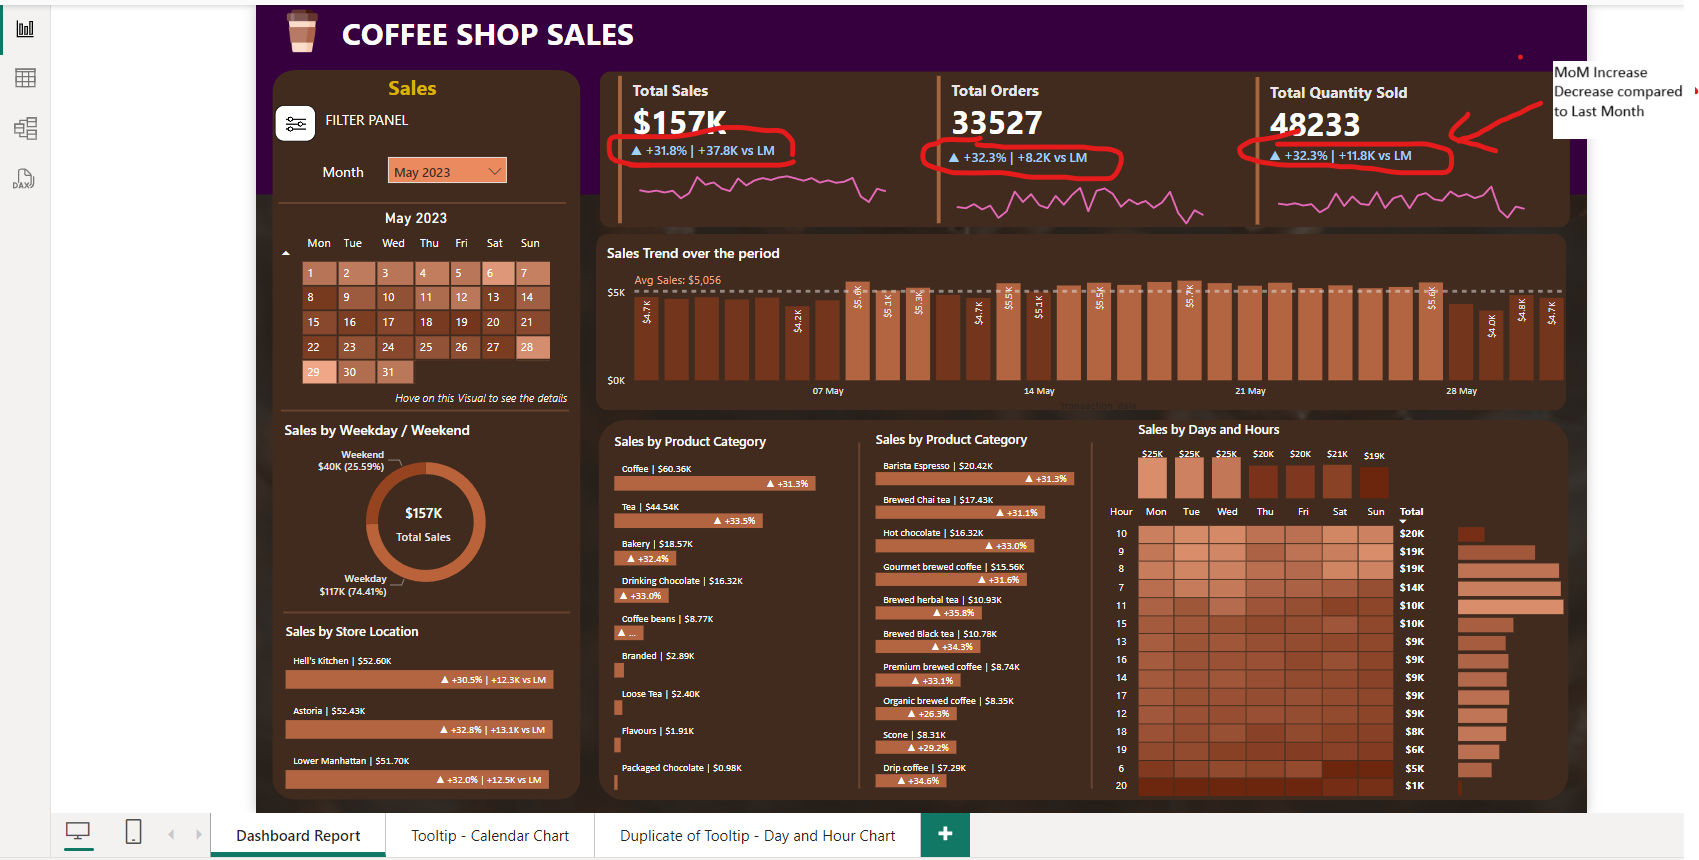

The dashboard page shown, as its layout file describes it:
{"tool":"powerbi","page":{"name":"Dashboard Report","canvas":[1400,850],"ordinal":0},"visuals":[{"type":"shape","box":[0,0,1400.1,199.4],"z":0},{"type":"shape","box":[360,435.7,1020,400],"z":1000},{"type":"shape","box":[17.4,67.7,324.3,767.1],"z":2000},{"type":"shape","box":[361.1,69.1,1020,164.3],"z":3000},{"type":"textbox","box":[85.7,2.9,327.1,68.6],"z":4000},{"type":"cardVisual","fields":{"Data":["Transactions.Total Sales"]},"box":[375.7,70,300.5,165.2],"z":4000,"group":"g1"},{"type":"cardVisual","fields":{"Data":["Transactions.Total Orders"]},"box":[711.1,70,300.5,165.2],"z":4000,"group":"g2"},{"type":"cardVisual","fields":{"Data":["Transactions.Total Quantity"]},"box":[1046.6,71.5,300.5,165.2],"z":4000,"group":"g3"},{"type":"slicer","fields":{"Values":["Date Table.Month Year"]},"box":[134.3,155.7,134.3,48.6],"z":5000},{"type":"lineChart","fields":{"Y":["Transactions.Total Sales"],"Category":["Date Table.Date.Variation.Date Hierarchy.Year","Date Table.Date.Variation.Date Hierarchy.Quarter","Date Table.Date.Variation.Date Hierarchy.Month","Date Table.Date.Variation.Date Hierarchy.Day"]},"box":[388.5,144.1,287.7,85.5],"z":5001,"group":"g1"},{"type":"lineChart","fields":{"Y":["Transactions.Total Quantity Sold"],"Category":["Date Table.Date.Variation.Date Hierarchy.Year","Date Table.Date.Variation.Date Hierarchy.Quarter","Date Table.Date.Variation.Date Hierarchy.Month","Date Table.Date.Variation.Date Hierarchy.Day"]},"box":[1060.7,149,287.7,85.5],"z":5001,"group":"g3"},{"type":"lineChart","fields":{"Y":["Transactions.Total Orders"],"Category":["Date Table.Date.Variation.Date Hierarchy.Year","Date Table.Date.Variation.Date Hierarchy.Quarter","Date Table.Date.Variation.Date Hierarchy.Month","Date Table.Date.Variation.Date Hierarchy.Day"]},"box":[722.8,151.7,287.7,85.5],"z":5001,"group":"g2"},{"type":"group","id":"g1","title":"Group 1","box":[375.7,70,300.5,165.2],"z":6000},{"type":"group","id":"g2","title":"Group 1","box":[711.1,70,300.5,166.6],"z":7000},{"type":"group","id":"g3","title":"Group 1","box":[1046.6,71.5,301.9,165.2],"z":8000},{"type":"pivotTable","fields":{"Rows":["Date Table.Week Number"],"Columns":["Date Table.Day Name"],"Values":["Min(Date Table.Day Number)"]},"box":[17.5,233.8,313.8,191.2],"z":9000},{"type":"card","fields":{"Values":["Min(Date Table.Month Year)"]},"box":[100,202.5,137.5,45],"z":10000},{"type":"card","fields":{"Values":["Transactions.Footnote"]},"box":[132.5,400,208.8,32.5],"z":11000},{"type":"shape","box":[25.7,410,302.9,32.9],"z":12000},{"type":"shape","box":[23.8,191.2,302.5,32.5],"z":13000},{"type":"donutChart","title":"Sales by Weekday / Weekend","fields":{"Y":["Transactions.Total Sales"],"Category":["Date Table.Weekday / Weekend"]},"box":[25,436.2,307.5,195],"z":14000},{"type":"card","fields":{"Values":["Transactions.Total Sales"]},"box":[128.8,518.8,95,51.2],"z":15000},{"type":"shape","box":[28.6,622.9,301.4,31.4],"z":16000},{"type":"shape","box":[357.1,240,1020,185.7],"z":17000},{"type":"clusteredBarChart","title":"Sales by Store Location","fields":{"Category":["Transactions.store_location"],"Y":["Transactions.Placeholder","Transactions.Total Sales"]},"box":[25.7,648.6,317.1,182.9],"z":18000},{"type":"columnChart","title":"Sales Trend over the period","fields":{"Category":["Transactions.transaction_date"],"Y":["Transactions.Total Sales"]},"box":[363.4,250.3,1020,182.9],"z":19000},{"type":"shape","box":[615.7,460.6,35.7,363.7],"z":20000},{"type":"clusteredBarChart","title":"Sales by Product Category","fields":{"Y":["Transactions.Placeholder","Transactions.Total Sales"],"Category":["Transactions.product_category"]},"box":[372,450,250,381.4],"z":21000},{"type":"clusteredBarChart","title":"Sales by Product Category","fields":{"Y":["Transactions.Placeholder","Transactions.Total Sales"],"Category":["Transactions.product_type"]},"box":[646.6,447.4,250,381.4],"z":22000},{"type":"shape","box":[861.4,460,35.7,364.3],"z":23000},{"type":"pivotTable","fields":{"Rows":["Transactions.Hour"],"Columns":["Date Table.Day Name"],"Values":["Transactions.Total Sales"]},"box":[887.1,520,370,318.6],"z":24000},{"type":"barChart","fields":{"Category":["Transactions.Hour"],"Y":["Transactions.Total Sales"]},"box":[1258.6,535.7,122.9,300],"z":25000},{"type":"columnChart","title":"Sales by Days and Hours","fields":{"Category":["Date Table.Day Name"],"Y":["Transactions.Total Sales"]},"box":[922.9,435.7,274.3,88.6],"z":26000},{"type":"textbox","box":[48.6,160,85.7,44.3],"z":27000},{"type":"textbox","box":[134.3,67.1,90,52.9],"z":28000},{"type":"textbox","box":[48.6,105.7,135.7,41.4],"z":29000},{"type":"image","box":[20,105.7,42.9,38.6],"z":30000},{"type":"image","box":[11.4,0,74.3,54.3],"z":31000}]}

Visuals, with their boxes on the page's 1400x850 design canvas (x1, y1, x2, y2). These are canvas units, not pixel positions in the 1699x860 screenshot, which may show the page scaled, cropped or inside an application window:
shape: <box>0,0,1400,199</box>
shape: <box>360,436,1380,836</box>
shape: <box>17,68,342,835</box>
shape: <box>361,69,1381,233</box>
textbox: <box>86,3,413,72</box>
cardVisual - Transactions.Total Sales: <box>376,70,676,235</box>
cardVisual - Transactions.Total Orders: <box>711,70,1012,235</box>
cardVisual - Transactions.Total Quantity: <box>1047,72,1347,237</box>
slicer - Date Table.Month Year: <box>134,156,269,204</box>
lineChart - Transactions.Total Sales x Date Table.Date.Variation.Date Hierarchy.Year: <box>388,144,676,230</box>
lineChart - Transactions.Total Quantity Sold x Date Table.Date.Variation.Date Hierarchy.Year: <box>1061,149,1348,234</box>
lineChart - Transactions.Total Orders x Date Table.Date.Variation.Date Hierarchy.Year: <box>723,152,1010,237</box>
"Group 1" group: <box>376,70,676,235</box>
"Group 1" group: <box>711,70,1012,237</box>
"Group 1" group: <box>1047,72,1348,237</box>
pivotTable - Date Table.Week Number x Date Table.Day Name: <box>18,234,331,425</box>
card - Min(Date Table.Month Year): <box>100,202,238,248</box>
card - Transactions.Footnote: <box>132,400,341,432</box>
shape: <box>26,410,329,443</box>
shape: <box>24,191,326,224</box>
"Sales by Weekday / Weekend" donutChart: <box>25,436,332,631</box>
card - Transactions.Total Sales: <box>129,519,224,570</box>
shape: <box>29,623,330,654</box>
shape: <box>357,240,1377,426</box>
"Sales by Store Location" clusteredBarChart: <box>26,649,343,832</box>
"Sales Trend over the period" columnChart: <box>363,250,1383,433</box>
shape: <box>616,461,651,824</box>
"Sales by Product Category" clusteredBarChart: <box>372,450,622,831</box>
"Sales by Product Category" clusteredBarChart: <box>647,447,897,829</box>
shape: <box>861,460,897,824</box>
pivotTable - Transactions.Hour x Date Table.Day Name: <box>887,520,1257,839</box>
barChart - Transactions.Hour x Transactions.Total Sales: <box>1259,536,1382,836</box>
"Sales by Days and Hours" columnChart: <box>923,436,1197,524</box>
textbox: <box>49,160,134,204</box>
textbox: <box>134,67,224,120</box>
textbox: <box>49,106,184,147</box>
image: <box>20,106,63,144</box>
image: <box>11,0,86,54</box>
